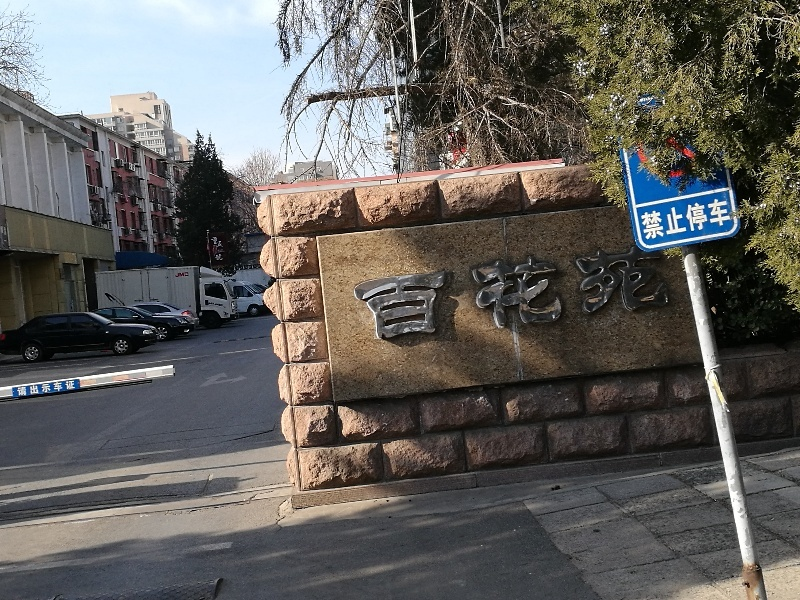text: (353, 242, 368, 343), (369, 242, 384, 343), (385, 242, 400, 343), (401, 242, 416, 343), (417, 242, 432, 343), (433, 242, 448, 343), (449, 242, 464, 343), (465, 242, 480, 343), (481, 242, 496, 343), (497, 242, 512, 343), (513, 242, 528, 343), (529, 242, 544, 343), (545, 242, 560, 343), (561, 242, 576, 343), (577, 242, 592, 343), (593, 242, 608, 343), (609, 242, 624, 343), (625, 242, 640, 343), (641, 242, 656, 343), (657, 242, 672, 343), (641, 197, 656, 241), (657, 197, 672, 241), (673, 197, 688, 241), (689, 197, 704, 241), (705, 197, 720, 241), (721, 197, 733, 241), (673, 242, 677, 343), (17, 381, 32, 396), (33, 381, 48, 396), (49, 381, 64, 396), (65, 381, 76, 396), (351, 242, 352, 343), (177, 272, 190, 278), (175, 272, 176, 278)
